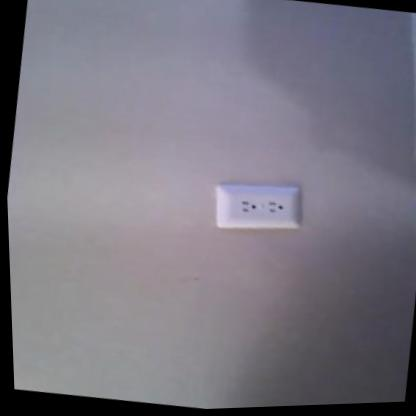OUTLET: (210, 175, 305, 238)
